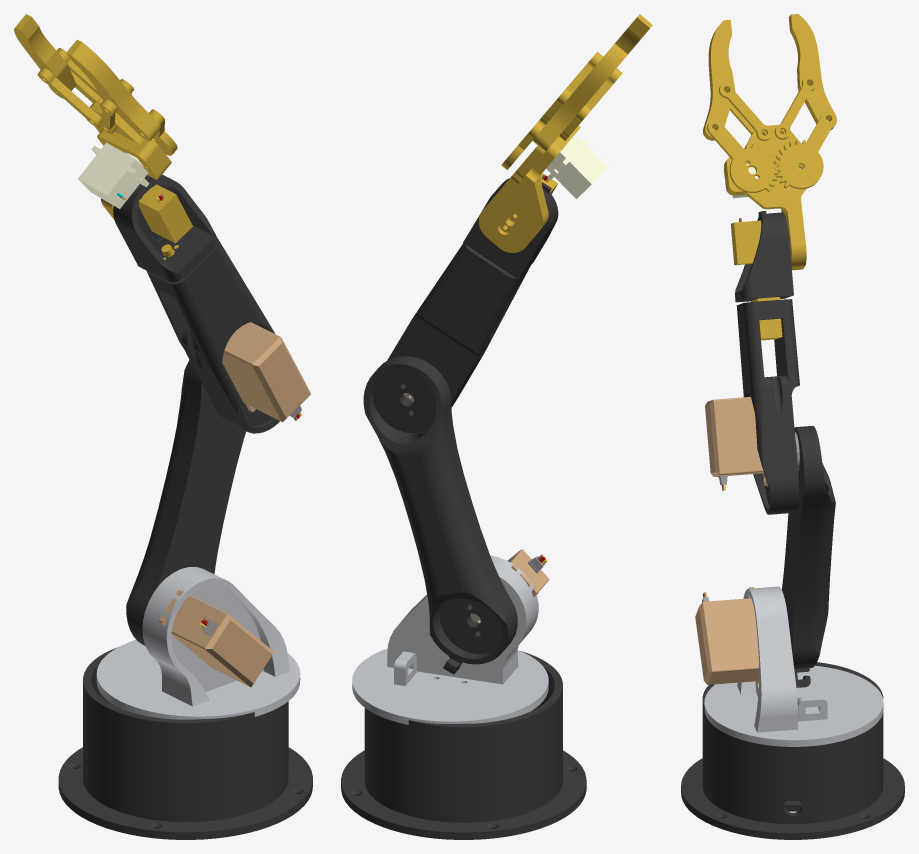
The model's file is gripper_dt.fbx.
The picture shows the model from 3 angles, left to right: view 1: azimuth 30°, elevation 25°; view 2: azimuth 150°, elevation 25°; view 3: azimuth 270°, elevation 25°; orthographic projection. The views are drawn at different scales.
Parts seen in each view (by area): view 1: Body1.034, Body1.019, Body1.018, Body1.017, Body4.003, Body1.016, Body4.004, Body1.005, Body1.014, Body1.006, Body1.013, Body3.001 (+2 smaller); view 2: Body1.034, Body1.018, Body1.019, Body1.017, Body1.005, Body1.013, Body1.016, Body1.015, Body1.006, Body4.004, Body1.014; view 3: Body1.005, Body1.019, Body1.017, Body1.018, Body1.034, Body4.004, Body4.003, Body1.016, Body1.013, Body1.008, Body1.007, Body1.015 (+5 smaller).
Boxes of the visible parts, x1=… form: Body1.034: x1=58, y1=647, x2=312, y2=839; Body1.019: x1=96, y1=567, x2=300, y2=719; Body1.018: x1=126, y1=360, x2=246, y2=645; Body1.017: x1=146, y1=239, x2=279, y2=433; Body4.003: x1=222, y1=322, x2=310, y2=422; Body1.016: x1=113, y1=174, x2=218, y2=282; Body4.004: x1=159, y1=589, x2=273, y2=687; Body1.005: x1=60, y1=653, x2=312, y2=839; Body1.014: x1=66, y1=39, x2=161, y2=141; Body1.006: x1=78, y1=142, x2=149, y2=208; Body1.013: x1=89, y1=100, x2=171, y2=219; Body3.001: x1=138, y1=184, x2=192, y2=243; Body1.034: x1=341, y1=651, x2=586, y2=839; Body1.018: x1=363, y1=356, x2=517, y2=664; Body1.019: x1=352, y1=555, x2=548, y2=724; Body1.017: x1=387, y1=243, x2=530, y2=407; Body1.005: x1=341, y1=667, x2=584, y2=838; Body1.013: x1=478, y1=126, x2=580, y2=252; Body1.016: x1=463, y1=178, x2=558, y2=279; Body1.015: x1=532, y1=44, x2=627, y2=151; Body1.006: x1=546, y1=136, x2=608, y2=198; Body4.004: x1=470, y1=549, x2=549, y2=623; Body1.014: x1=592, y1=14, x2=652, y2=69; Body1.005: x1=681, y1=662, x2=904, y2=839; Body1.019: x1=704, y1=586, x2=883, y2=746; Body1.017: x1=736, y1=299, x2=799, y2=514; Body1.018: x1=781, y1=426, x2=835, y2=668; Body1.034: x1=681, y1=662, x2=904, y2=838; Body4.004: x1=695, y1=587, x2=758, y2=692; Body4.003: x1=705, y1=397, x2=799, y2=485; Body1.016: x1=734, y1=212, x2=793, y2=302; Body1.013: x1=724, y1=125, x2=806, y2=270; Body1.008: x1=707, y1=120, x2=779, y2=192; Body1.007: x1=774, y1=111, x2=836, y2=189; Body1.015: x1=788, y1=14, x2=836, y2=129.
Bounding box in the file's own units: 15.36 × 42.51 × 12.13.
